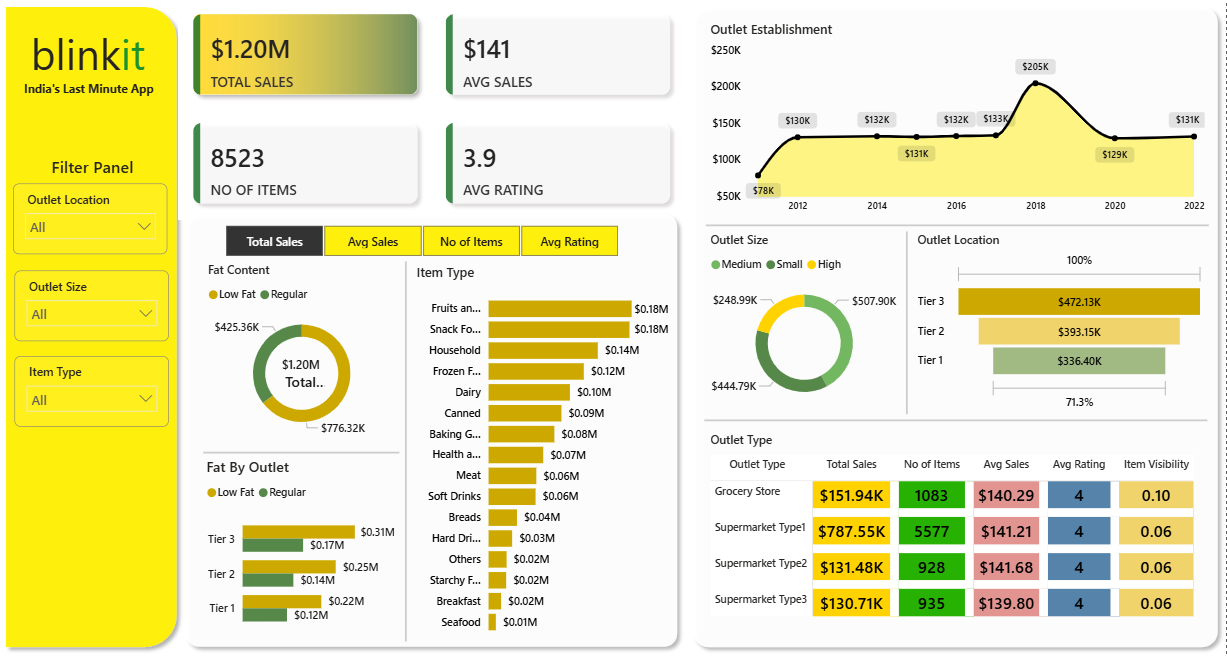

The page's visual inventory and layout, read from the dashboard file:
{"tool":"powerbi","page":{"name":"Page 1","canvas":[1400,758],"ordinal":0},"visuals":[{"type":"shape","box":[0,0,213,748.3],"z":0},{"type":"textbox","box":[0,24,205.3,80.4],"z":1000},{"type":"textbox","box":[13.7,87.3,179.6,34.2],"z":2000},{"type":"cardVisual","fields":{"Data":["BlinkIT Grocery Data.Total Sales","BlinkIT Grocery Data.Avg Sales","BlinkIT Grocery Data.No of Items","BlinkIT Grocery Data.Avg Rating"]},"box":[205,0,578.3,251.7],"z":3000},{"type":"shape","box":[205,236.7,578.3,511.7],"z":4000},{"type":"donutChart","title":"Fat Content","fields":{"Y":["BlinkIT Grocery Data.Total Sales"],"Category":["BlinkIT Grocery Data.Item Fat Content"]},"box":[235,300,223.3,208.3],"z":5000},{"type":"slicer","fields":{"Values":["Metrics.Metrics"]},"box":[235,251.7,496.7,48.3],"z":6000},{"type":"cardVisual","fields":{"Data":["BlinkIT Grocery Data.Total Sales"]},"box":[301.7,390,88.3,68.3],"z":7000},{"type":"clusteredBarChart","title":"Fat By Outlet","fields":{"Y":["BlinkIT Grocery Data.Total Sales"],"Category":["BlinkIT Grocery Data.Outlet Location Type"],"Series":["BlinkIT Grocery Data.Item Fat Content"]},"box":[232.7,521.8,224.1,210.4],"z":8000},{"type":"shape","box":[235,511.7,223.3,11.7],"z":9000},{"type":"shape","box":[458.3,300,13.3,433.3],"z":10000},{"type":"barChart","title":"Item Type","fields":{"Y":["BlinkIT Grocery Data.Total Sales"],"Category":["BlinkIT Grocery Data.Item Type"]},"box":[471.7,301.7,297,433.3],"z":11000},{"type":"shape","box":[783.3,0,616.7,748.3],"z":12000},{"type":"lineChart","title":"Outlet Establishment","fields":{"Category":["BlinkIT Grocery Data.Outlet Establishment Year"],"Y":["BlinkIT Grocery Data.Total Sales"]},"box":[806.7,23.3,573.3,228.3],"z":13000},{"type":"shape","box":[806.7,251.7,573.3,13.3],"z":14000},{"type":"donutChart","title":"Outlet Size","fields":{"Y":["BlinkIT Grocery Data.Total Sales"],"Category":["BlinkIT Grocery Data.Outlet Size"]},"box":[806.7,265,223.3,208.3],"z":15000},{"type":"shape","box":[1030,265,13.3,208.3],"z":16000},{"type":"funnel","title":"Outlet Location","fields":{"Y":["BlinkIT Grocery Data.Total Sales"],"Category":["BlinkIT Grocery Data.Outlet Location Type"]},"box":[1043.6,265.2,337,208.7],"z":17000},{"type":"shape","box":[805,473.3,573.3,13.3],"z":18000},{"type":"pivotTable","title":"Outlet Type","fields":{"Rows":["BlinkIT Grocery Data.Outlet Type"],"Values":["BlinkIT Grocery Data.Total Sales","BlinkIT Grocery Data.No of Items","BlinkIT Grocery Data.Avg Sales","BlinkIT Grocery Data.Avg Rating","Avg(BlinkIT Grocery Data.Item Visibility)"]},"box":[806.7,493.3,573.3,228.3],"z":19000},{"type":"slicer","fields":{"Values":["BlinkIT Grocery Data.Outlet Location Type"]},"box":[17.1,210.4,176.2,80.4],"z":20000},{"type":"slicer","fields":{"Values":["BlinkIT Grocery Data.Outlet Size"]},"box":[18.8,309.7,176.2,80.4],"z":20001},{"type":"slicer","fields":{"Values":["BlinkIT Grocery Data.Item Type"]},"box":[18.8,407.2,176.2,80.4],"z":20002},{"type":"textbox","box":[6.8,172.8,201.9,37.6],"z":20003}]}

Visuals, with their boxes in screenshot pixels (x1, y1, x2, y2), scaled from the page's 1400x758 canvas onto the 1227x657 screenshot:
shape: [x1=0, y1=0, x2=187, y2=649]
textbox: [x1=0, y1=21, x2=180, y2=90]
textbox: [x1=12, y1=76, x2=169, y2=105]
cardVisual - BlinkIT Grocery Data.Total Sales x BlinkIT Grocery Data.Avg Sales: [x1=180, y1=0, x2=687, y2=218]
shape: [x1=180, y1=205, x2=687, y2=649]
"Fat Content" donutChart: [x1=206, y1=260, x2=402, y2=441]
slicer - Metrics.Metrics: [x1=206, y1=218, x2=641, y2=260]
cardVisual - BlinkIT Grocery Data.Total Sales: [x1=264, y1=338, x2=342, y2=397]
"Fat By Outlet" clusteredBarChart: [x1=204, y1=452, x2=400, y2=635]
shape: [x1=206, y1=444, x2=402, y2=454]
shape: [x1=402, y1=260, x2=413, y2=636]
"Item Type" barChart: [x1=413, y1=261, x2=674, y2=637]
shape: [x1=687, y1=0, x2=1226, y2=649]
"Outlet Establishment" lineChart: [x1=707, y1=20, x2=1209, y2=218]
shape: [x1=707, y1=218, x2=1209, y2=230]
"Outlet Size" donutChart: [x1=707, y1=230, x2=903, y2=410]
shape: [x1=903, y1=230, x2=914, y2=410]
"Outlet Location" funnel: [x1=915, y1=230, x2=1210, y2=411]
shape: [x1=706, y1=410, x2=1208, y2=422]
"Outlet Type" pivotTable: [x1=707, y1=428, x2=1209, y2=625]
slicer - BlinkIT Grocery Data.Outlet Location Type: [x1=15, y1=182, x2=169, y2=252]
slicer - BlinkIT Grocery Data.Outlet Size: [x1=16, y1=268, x2=171, y2=338]
slicer - BlinkIT Grocery Data.Item Type: [x1=16, y1=353, x2=171, y2=423]
textbox: [x1=6, y1=150, x2=183, y2=182]
